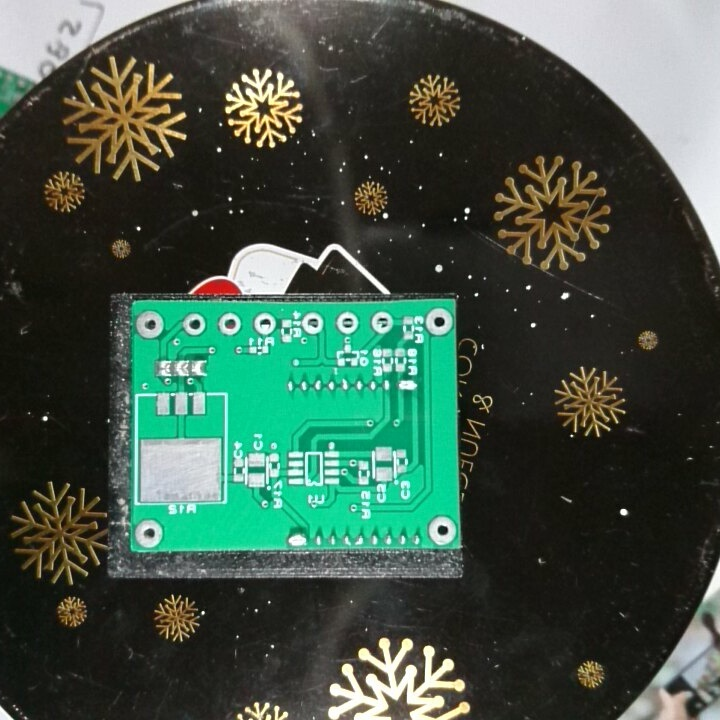F: (422, 306, 453, 338), (428, 515, 458, 548), (134, 309, 165, 340), (134, 518, 165, 549), (251, 309, 277, 337), (369, 309, 396, 335), (299, 309, 325, 335), (334, 309, 359, 335), (181, 311, 206, 337), (216, 312, 241, 335)
P: (396, 375, 419, 396), (285, 529, 308, 548)
